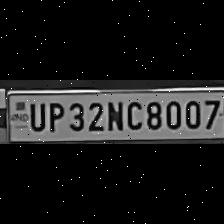0: (162, 97, 182, 128), (182, 97, 202, 128)
2: (86, 98, 104, 132)
3: (64, 98, 84, 132)
7: (202, 96, 220, 130)
8: (144, 98, 162, 130)
C: (122, 97, 142, 130)
N: (105, 97, 123, 130)
P: (45, 99, 63, 133)
U: (26, 99, 44, 130)
